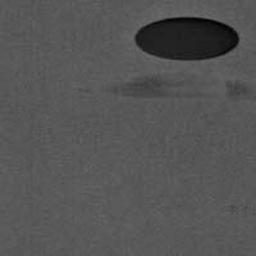Punching: (136, 17, 242, 63)
